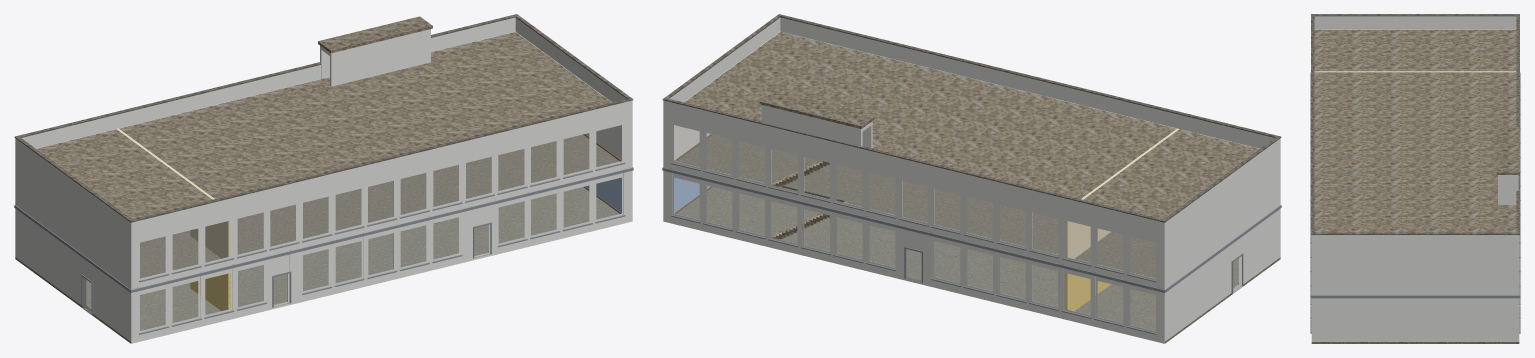
The model's file is air-terminal.reveal-v1.lod0.glb.
The picture shows the model from 3 angles, left to right: view 1: azimuth 30°, elevation 25°; view 2: azimuth 150°, elevation 25°; view 3: azimuth 270°, elevation 25°; orthographic projection. The views are drawn at different scales.
Parts seen in each view (by area): view 1: air-terminal; view 2: air-terminal; view 3: air-terminal.
Boxes of the visible parts, box(x1,y1,x2,y2) form: air-terminal: box(14, 14, 633, 343); air-terminal: box(662, 14, 1281, 343); air-terminal: box(1310, 14, 1520, 343).
Size of the model in its own units: 40.12 by 10.97 by 16.2.
Materials: 3 (2 with a texture image).
